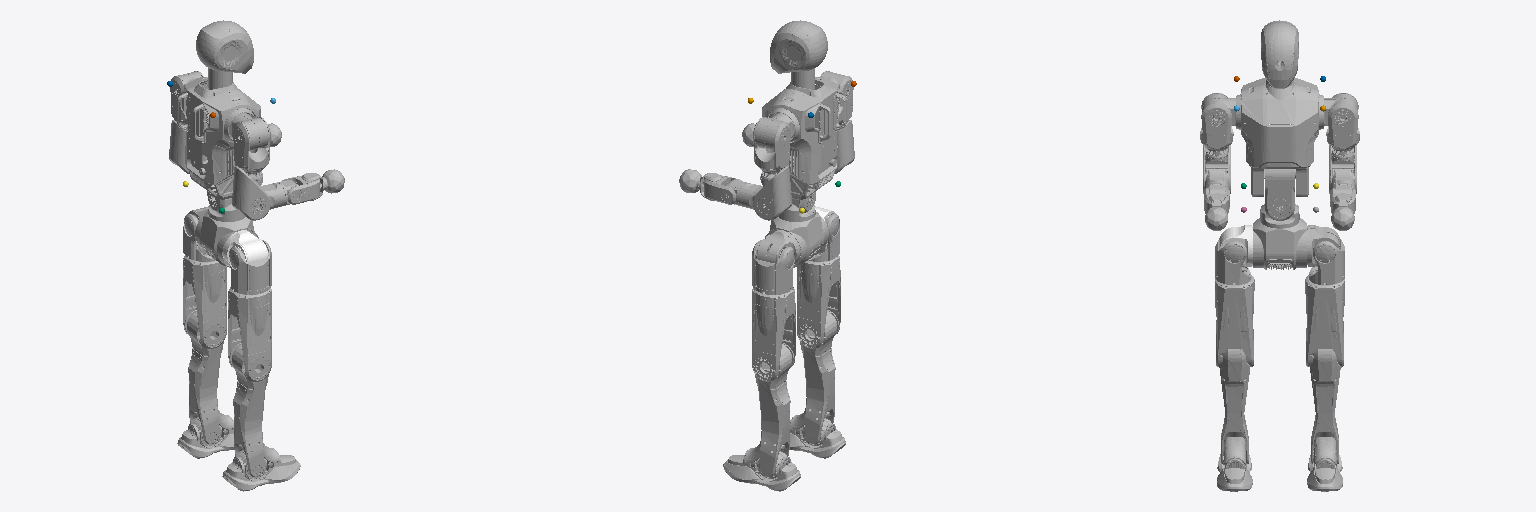
--- What the picture shows (computed from the rendered views, not written in the file) ---
The picture shows the robot from 3 angles, left to right: view 1: azimuth 30°, elevation 25°; view 2: azimuth 150°, elevation 25°; view 3: azimuth 270°, elevation 25°; orthographic projection.
Model DR2 with 38 links and 37 joints (29 revolute, 8 fixed), rooted at base_link, posed all joints at 0.
Visible links, largest first — view 1: body, right_hip_z_link, left_hip_z_link, left_knee_link, right_knee_link, right_ankle_x_link, right_hip_x_link, right_shoulder_z_link, base_link, left_ankle_x_link, right_shoulder_x_link, right_hip_y_link (+5 smaller); view 2: body, left_hip_z_link, right_hip_z_link, right_knee_link, left_knee_link, left_ankle_x_link, left_hip_x_link, base_link, left_shoulder_z_link, right_ankle_x_link, left_shoulder_x_link, left_hip_y_link (+6 smaller); view 3: body, left_hip_z_link, right_hip_z_link, base_link, right_knee_link, left_knee_link, left_ankle_x_link, right_ankle_x_link, left_hip_x_link, right_hip_x_link, left_shoulder_x_link, right_shoulder_x_link (+8 smaller).
Link boxes in pixels (left/top/right/bottom): body: left=177, top=20, right=260, bottom=199; right_hip_z_link: left=228, top=287, right=271, bottom=381; left_hip_z_link: left=183, top=255, right=226, bottom=348; left_knee_link: left=187, top=312, right=223, bottom=443; right_knee_link: left=232, top=345, right=268, bottom=476; right_ankle_x_link: left=222, top=444, right=300, bottom=491; right_hip_x_link: left=229, top=240, right=271, bottom=294; right_shoulder_z_link: left=232, top=166, right=270, bottom=220; base_link: left=195, top=211, right=258, bottom=267; left_ankle_x_link: left=177, top=411, right=233, bottom=458; right_shoulder_x_link: left=233, top=117, right=270, bottom=169; right_hip_y_link: left=223, top=230, right=268, bottom=263; body: left=762, top=20, right=846, bottom=199; left_hip_z_link: left=752, top=287, right=795, bottom=381; right_hip_z_link: left=797, top=255, right=840, bottom=348; right_knee_link: left=800, top=311, right=836, bottom=443; left_knee_link: left=755, top=344, right=791, bottom=476; left_ankle_x_link: left=723, top=444, right=800, bottom=491; left_hip_x_link: left=752, top=240, right=794, bottom=294; base_link: left=765, top=212, right=828, bottom=267; left_shoulder_z_link: left=753, top=166, right=791, bottom=220; right_ankle_x_link: left=790, top=411, right=845, bottom=458; left_shoulder_x_link: left=753, top=117, right=790, bottom=169; left_hip_y_link: left=755, top=230, right=800, bottom=263; body: left=1236, top=20, right=1323, bottom=196; left_hip_z_link: left=1305, top=275, right=1344, bottom=367; right_hip_z_link: left=1215, top=275, right=1254, bottom=366; base_link: left=1253, top=218, right=1306, bottom=269; right_knee_link: left=1219, top=349, right=1249, bottom=463; left_knee_link: left=1310, top=349, right=1340, bottom=463; left_ankle_x_link: left=1307, top=437, right=1342, bottom=491; right_ankle_x_link: left=1217, top=437, right=1252, bottom=491; left_hip_x_link: left=1308, top=232, right=1344, bottom=284; right_hip_x_link: left=1215, top=238, right=1250, bottom=284; left_shoulder_x_link: left=1326, top=93, right=1359, bottom=147; right_shoulder_x_link: left=1200, top=93, right=1233, bottom=147.
Bounding box of the posed robot: 0.5258 × 0.5733 × 1.77 m (x, y, z).
Meshes: 17 distinct files referenced, 30 mesh visuals loaded (17 binary STL).

robot.urdf — DR2:
<?xml version="1.0" encoding="utf-8"?>
<!-- This URDF was automatically created by SolidWorks to URDF Exporter! Originally created by Stephen Brawner ([email redacted]) 
     Commit Version: 1.6.0-4-g7f85cfe  Build Version: 1.6.7995.38578
     For more information, please see http://wiki.ros.org/sw_urdf_exporter -->
<robot name="DR2">
      <mujoco>
    <compiler meshdir="./meshes/" balanceinertia="false" discardvisual="false"/>
  </mujoco>
    <link name="base_link">
        <inertial>
            <origin xyz="0.00036 -0.00001 0.01581" rpy="0 0 0"/>
            <mass value="7.82975"/>
            <inertia ixx="0.04503" ixy="0.00004" ixz="0.00009" iyy="0.03128" iyz="0.00001" izz="0.03698"/>
        </inertial>
        <visual>
            <origin xyz="0 0 0" rpy="0 0 0"/>
            <geometry>
                <mesh filename="./meshes/base.stl"/>
            </geometry>
            <material name="">
                <color rgba="0.75294 0.75294 0.75294 1"/>
            </material>
        </visual>
        <collision>
            <origin xyz="0 0 0" rpy="1.57079632 0  0"/>
            <geometry>
                <cylinder length="0.13" radius="0.09"/>
            </geometry>
        </collision>
    </link>
    <link name="waist_z_link">
        <inertial>
            <origin xyz="0.00104 -0.00048 -0.01227" rpy="0 0 0"/>
            <mass value="1.84403"/>
            <inertia ixx="0.00320" ixy="-0.00001" ixz="0" iyy="0.00351" iyz="0.00001"
                     izz="0.00346"/>
        </inertial>
        <visual>
            <origin xyz="0 0 0" rpy="0 0 0"/>
            <geometry>
                <mesh filename="./meshes/waist_z.stl"/>
            </geometry>
            <material name="">
                <color rgba="0.75294 0.75294 0.75294 1"/>
            </material>
        </visual>
        <collision>
            <origin xyz="0 0 -0.07" rpy="0 0 0"/>
            <geometry>
                <cylinder length="0.06" radius="0.065"/>
            </geometry>
        </collision>
    </link>
    <joint name="waist_z_joint" type="revolute">
        <origin xyz="0 0 0.176" rpy="0 0 0"/>
        <parent link="base_link"/>
        <child link="waist_z_link"/>
        <axis xyz="0 0 1"/>
        <limit lower="-3.6652" upper="1.7453" effort="107" velocity="19.38"/>
    </joint>
    <link name="waist_x_link">
        <inertial>
            <origin xyz="-0.00258 0.00086 0.09228" rpy="0 0 0"/>
            <mass value="3.40004"/>
            <inertia ixx="0.01263" ixy="-0.00006" ixz="-0.0006" iyy="0.01307" iyz="-0.00004"
                     izz="0.00876"/>
        </inertial>
        <visual>
            <origin xyz="0 0 0" rpy="0 0 0"/>
            <geometry>
                <mesh filename="./meshes/waist_x.stl"/>
            </geometry>
            <material name="">
                <color rgba="0.75294 0.75294 0.75294 1"/>
            </material>
        </visual>
        <collision>
            <origin xyz="0 0 0.03" rpy="0 0 0"/>
            <geometry>
                <box size="0.12 0.09 0.14"/>
            </geometry>
        </collision>
    </link>
    <joint name="waist_x_joint" type="revolute">
        <origin xyz="0 0 0." rpy="0 0 0"/>
        <parent link="waist_z_link"/>
        <child link="waist_x_link"/>
        <axis xyz="1 0 0"/>
        <limit lower="-0.7854" upper="0.7854" effort="107" velocity="19.38"/>
    </joint>
    <link name="body">
        <inertial>
            <origin xyz="-0.03514 -0.00347 0.18093" rpy="0 0 0"/>
            <mass value="17.72258"/>
            <inertia ixx="0.27657" ixy="0.00425" ixz="-0.00829" iyy="0.27339" iyz="-0.00746" izz="0.15935"/>
        </inertial>
        <visual>
            <origin xyz="0 0 0." rpy="0 0 0"/>
            <geometry>
                <mesh filename="./meshes/body.stl"/>
            </geometry>
            <material name="">
                <color rgba="0.75294 0.75294 0.75294 1"/>
            </material>
        </visual>
        <collision>
            <origin xyz="-0.025 0 0.125" rpy="0 0 0"/>
            <geometry>
                <box size="0.2 0.2 0.375"/>
            </geometry>
        </collision>
        <collision>
            <origin xyz="-0.025 0 0.2" rpy="0 0 0"/>
            <geometry>
                <box size="0.23 0.25 0.25"/>
            </geometry>
        </collision>
        <collision>
            <origin xyz="-0.029 0 0.35" rpy="0 0 0"/>
            <geometry>
                <cylinder length="0.1" radius="0.05"/>
            </geometry>
        </collision>
        <collision>
            <origin xyz="-0.01 0 0.48" rpy="0 0 0"/>
            <geometry>
                <sphere radius="0.1"/>
            </geometry>
        </collision>
    </link>
    <joint name="waist_y_joint" type="revolute">
        <origin xyz="0 0 0.114" rpy="0 0 0"/>
        <parent link="waist_x_link"/>
        <child link="body"/>
        <axis xyz="0 1 0"/>
        <limit lower="-0.5236" upper="1.5708" effort="413" velocity="20"/>
    </joint>
    <link name="left_shoulder_y_link">
        <inertial>
            <origin xyz="-0.00283 -0.01423 -0.00089" rpy="0 0 0"/>
            <mass value="1.82215"/>
            <inertia ixx="0.00387" ixy="-0.00002" ixz="0.00003" iyy="0.00253" iyz="-0.00002"
                     izz="0.00402"/>
        </inertial>
        <visual>
            <origin xyz="0 0 0" rpy="-1.57079633 0 0"/>
            <geometry>
                <mesh filename="./meshes/shoulder_y.stl"/>
            </geometry>
            <material name="">
                <color rgba="0.75294 0.75294 0.75294 1"/>
            </material>
        </visual>
        <collision>
            <origin xyz="0 -0.075 0" rpy="1.57079632 0 0"/>
            <geometry>
                <cylinder length="0.1" radius="0.06"/>
            </geometry>
        </collision>
    </link>
    <joint name="left_shoulder_y_joint" type="revolute">
        <origin xyz="-0.03 0.22635 0.225" rpy="0 0 0"/>
        <parent link="body"/>
        <child link="left_shoulder_y_link"/>
        <axis xyz="0 1 0"/>
        <limit lower="-3.3161" upper="1.5708" effort="107" velocity="19.38"/>
    </joint>
    <link name="left_shoulder_x_link">
        <inertial>
            <origin xyz="0.00263 0 -0.05349" rpy="0 0 0"/>
            <mass value="0.97689"/>
            <inertia ixx="0.00258" ixy="0" ixz="0.00027" iyy="0.0031" iyz="0"
                     izz="0.00231"/>
        </inertial>
        <visual>
            <origin xyz="0 0 0" rpy="0 0 0"/>
            <geometry>
                <mesh filename="./meshes/shoulder_x.stl"/>
            </geometry>
            <material name="">
                <color rgba="0.75294 0.75294 0.75294 1"/>
            </material>
        </visual>
        <collision>
            <origin xyz="0 0 -0.09" rpy="0 0 0"/>
            <geometry>
                <cylinder length="0.1" radius="0.055"/>
            </geometry>
        </collision>
        <collision>
            <origin xyz="0 0 0" rpy="0 1.57079632 0"/>
            <geometry>
                <cylinder length="0.11" radius="0.055"/>
            </geometry>
        </collision>
    </link>
    <joint name="left_shoulder_x_joint" type="revolute">
        <origin xyz="0 0 0" rpy="0 0 0"/>
        <parent link="left_shoulder_y_link"/>
        <child link="left_shoulder_x_link"/>
        <axis xyz="1 0 0"/>
        <limit lower="-0.43633" upper="3.5779" effort="107" velocity="19.38"/>
    </joint>
    <link name="left_shoulder_z_link">
        <inertial>
            <origin xyz="-0.00978 -0.00126 0.09022" rpy="0 0 0"/>
            <mass value="1.9789"/>
            <inertia ixx="0.00920" ixy="-0.00002" ixz="0.00031" iyy="0.00904" iyz="0.00022"
                     izz="0.00369"/>
        </inertial>
        <visual>
            <origin xyz="0 0 0" rpy="0 0 0"/>
            <geometry>
                <mesh filename="./meshes/shoulder_z.stl"/>
            </geometry>
            <material name="">
                <color rgba="0.75294 0.75294 0.75294 1"/>
            </material>
        </visual>
        <collision>
            <origin xyz="0 0 0.05" rpy="0 0 0"/>
            <geometry>
                <cylinder length="0.15" radius="0.055"/>
            </geometry>
        </collision>
    </link>
    <joint name="left_shoulder_z_joint" type="revolute">
        <origin xyz="0 0 -0.265" rpy="0 0 0"/>
        <parent link="left_shoulder_x_link"/>
        <child link="left_shoulder_z_link"/>
        <axis xyz="0 0 1"/>
        <limit lower="-2.9671" upper="2.9671" effort="107" velocity="19.38"/>
    </joint>
    <link name="left_elbow_link">
        <inertial>
            <origin xyz="-0.00024 0.00041 -0.02569" rpy="0 0 0"/>
            <mass value="2.12943"/>
            <inertia ixx="0.00530" ixy="0.00003" ixz="0.00005" iyy="0.00528" iyz="0.00002"
                     izz="0.00289"/>
        </inertial>
        <visual>
            <origin xyz="0 0 0" rpy="0 0 0"/>
            <geometry>
                <mesh filename="./meshes/elbow.stl"/>
            </geometry>
            <material name="">
                <color rgba="0.75294 0.75294 0.75294 1"/>
            </material>
        </visual>
        <collision>
            <origin xyz="0 0 0" rpy="1.57079632 0 0"/>
            <geometry>
                <cylinder length="0.11" radius="0.055"/>
            </geometry>
        </collision>
        <collision>
            <origin xyz="0 0 -0.05" rpy="0 0 0"/>
            <geometry>
                <cylinder length="0.15" radius="0.045"/>
            </geometry>
        </collision>
    </link>
    <joint name="left_elbow_joint" type="revolute">
        <origin xyz="0 0 0" rpy="0 -1.57079633 0"/>
        <parent link="left_shoulder_z_link"/>
        <child link="left_elbow_link"/>
        <axis xyz="0 1 0"/>
        <limit lower="-0.767945" upper="1.74533" effort="107" velocity="19.38"/>
    </joint>
    <link name="left_wrist_z_link">
        <inertial>
            <origin xyz="0.00003 0.00439 0.00857" rpy="0 0 0"/>
            <mass value="0.79873"/>
            <inertia ixx="0.00085" ixy="0" ixz="0" iyy="0.0008" iyz="0"
                     izz="0.00072"/>
        </inertial>
        <visual>
            <origin xyz="0 0 0" rpy="0 0 0"/>
            <geometry>
                <mesh filename="./meshes/wrist_z.stl"/>
            </geometry>
            <material name="">
                <color rgba="0.75294 0.75294 0.75294 1"/>
            </material>
        </visual>
        <collision>
            <origin xyz="0 0 0" rpy="1.57079632 0 0"/>
            <geometry>
                <cylinder length="0.095" radius="0.04"/>
            </geometry>
        </collision>
    </link>
    <joint name="left_wrist_z_joint" type="revolute">
        <origin xyz="0 0 -0.16" rpy="0 0 0"/>
        <parent link="left_elbow_link"/>
        <child link="left_wrist_z_link"/>
        <axis xyz="0 0 1"/>
        <limit lower="-2.9671" upper="2.9671" effort="31" velocity="23.76"/>
    </joint>
    <link name="left_wrist_y_link">
        <inertial>
            <origin xyz="0.00237 -0.00160 -0.05688" rpy="0 0 0"/>
            <mass value="0.96977"/>
            <inertia ixx="0.00183" ixy="0" ixz="-0.00002" iyy="0.00154" iyz="-0.00011"
                     izz="0.00115"/>
        </inertial>
        <visual>
            <origin xyz="0 0 0" rpy="0 0 0"/>
            <geometry>
                <mesh filename="./meshes/wrist_y.stl"/>
            </geometry>
            <material name="">
                <color rgba="0.75294 0.75294 0.75294 1"/>
            </material>
        </visual>
        <collision>
            <origin xyz="0 0 -0.08" rpy=" 0 1.57079632 0"/>
            <geometry>
                <cylinder length="0.09" radius="0.04"/>
            </geometry>
        </collision>
    </link>
    <joint name="left_wrist_y_joint" type="revolute">
        <origin xyz="0 0 0" rpy="0 0 0"/>
        <parent link="left_wrist_z_link"/>
        <child link="left_wrist_y_link"/>
        <axis xyz="0 1 0"/>
        <limit lower="-1.5708" upper="1.5708" effort="31" velocity="23.76"/>
    </joint>
    <link name="left_wrist_x_link">
        <inertial>
            <origin xyz="-0.00177 -0.00028 -0.05143" rpy="0 0 0"/>
            <mass value="0.31088"/>
            <inertia ixx="0.0007" ixy="0" ixz="-0.00003" iyy="0.00089" iyz="0" izz="0.00039"/>
        </inertial>
        <visual>
            <origin xyz="0 0 0" rpy="0 0 0"/>
            <geometry>
                <mesh filename="./meshes/wrist_x.stl"/>
            </geometry>
            <material name="">
                <color rgba="0.75294 0.75294 0.75294 1"/>
            </material>
        </visual>
        <collision>
            <origin xyz="0 0 -0.0975" rpy=" 0 0 0"/>
            <geometry>
                <sphere radius="0.0425"/>
            </geometry>
        </collision>

    </link>
    <joint name="left_wrist_x_joint" type="revolute">
        <origin xyz="0 0 -0.08" rpy="0 0 0"/>
        <parent link="left_wrist_y_link"/>
        <child link="left_wrist_x_link"/>
        <axis xyz="1 0 0"/>
        <limit lower="-1.5708" upper="1.5708" effort="31" velocity="23.76"/>
    </joint>
    <link name="right_shoulder_y_link">
        <inertial>
            <origin xyz="-0.00283 0.01423 0.00089" rpy="0 0 0"/>
            <mass value="1.82215"/>
            <inertia ixx="0.00387" ixy="0.00002" ixz="0.00003" iyy="0.00253" iyz="-0.00002" izz="0.00402"/>
        </inertial>
        <visual>
            <origin xyz="0 0 0" rpy="1.57079633 0 0"/>
            <geometry>
                <mesh filename="./meshes/shoulder_y.stl"/>
            </geometry>
            <material name="">
                <color rgba="0.75294 0.75294 0.75294 1"/>
            </material>
        </visual>
        <collision>
            <origin xyz="0 0.075 0" rpy="1.57079632 0 0"/>
            <geometry>
                <cylinder length="0.1" radius="0.06"/>
            </geometry>
        </collision>
    </link>
    <joint name="right_shoulder_y_joint" type="revolute">
        <origin xyz="-0.03 -0.22635 0.225" rpy="0 0 0"/>
        <parent link="body"/>
        <child link="right_shoulder_y_link"/>
        <axis xyz="0 1 0"/>
        <limit lower="-3.3161" upper="1.5708" effort="107" velocity="19.38"/>
    </joint>
    <link name="right_shoulder_x_link">
        <inertial>
            <origin xyz="0.00263 0 -0.05349" rpy="0 0 0"/>
            <mass value="0.97689"/>
            <inertia ixx="0.00258" ixy="0" ixz="-0.00027" iyy="0.0031" iyz="0"
                     izz="0.00231"/>
        </inertial>
        <visual>
            <origin xyz="0 0 0" rpy="0 0 0"/>
            <geometry>
                <mesh filename="./meshes/shoulder_x.stl"/>
            </geometry>
            <material name="">
                <color rgba="0.75294 0.75294 0.75294 1"/>
            </material>
        </visual>
        <collision>
            <origin xyz="0 0 -0.09" rpy="0 0 0"/>
            <geometry>
                <cylinder length="0.1" radius="0.055"/>
            </geometry>
        </collision>
        <collision>
            <origin xyz="0 0 0" rpy="0 1.57079632 0"/>
            <geometry>
                <cylinder length="0.11" radius="0.055"/>
            </geometry>
        </collision>
    </link>
    <joint name="right_shoulder_x_joint" type="revolute">
        <origin xyz="0 0 0" rpy="0 0 0"/>
        <parent link="right_shoulder_y_link"/>
        <child link="right_shoulder_x_link"/>
        <axis xyz="1 0 0"/>
        <limit lower="-3.5779" upper="0.43633" effort="107" velocity="19.38"/>
    </joint>
    <link name="right_shoulder_z_link">
        <inertial>
            <origin xyz="-0.00978 -0.00126 0.09022" rpy="0 0 0"/>
            <mass value="1.9789"/>
            <inertia ixx="0.0092" ixy="-0.00002" ixz="0.00031"
                     iyy="0.00904" iyz="0.00022" izz="0.00369"/>
        </inertial>
        <visual>
            <origin xyz="0 0 0" rpy="0 0 0"/>
            <geometry>
                <mesh filename="./meshes/shoulder_z.stl"/>
            </geometry>
            <material name="">
                <color rgba="0.752941176470588 0.752941176470588 0.752941176470588 1"/>
            </material>
        </visual>
        <collision>
            <origin xyz="0 0 0.05" rpy="0 0 0"/>
            <geometry>
                <cylinder length="0.15" radius="0.055"/>
            </geometry>
        </collision>
    </link>
    <joint name="right_shoulder_z_joint" type="revolute">
        <origin xyz="0 0 -0.265" rpy="0 0 0"/>
        <parent link="right_shoulder_x_link"/>
        <child link="right_shoulder_z_link"/>
        <axis xyz="0 0 1"/>
        <limit lower="-2.9671" upper="2.9671" effort="107" velocity="19.38"/>
    </joint>
    <link name="right_elbow_link">
        <inertial>
            <origin xyz="-0.00024 0.00041 -0.02569" rpy="0 0 0"/>
            <mass value="2.12943"/>
            <inertia ixx="0.0053" ixy="0.00003" ixz="0.00005" iyy="0.00528" iyz="0"
                     izz="0.00289"/>
        </inertial>
        <visual>
            <origin xyz="0 0 0" rpy="0 0 0"/>
            <geometry>
                <mesh filename="./meshes/elbow.stl"/>
            </geometry>
            <material name="">
                <color rgba="0.75294 0.75294 0.75294 1"/>
            </material>
        </visual>
        <collision>
            <origin xyz="0 0 0" rpy="1.57079632 0 0"/>
            <geometry>
                <cylinder length="0.11" radius="0.055"/>
            </geometry>
        </collision>
        <collision>
            <origin xyz="0 0 -0.05" rpy="0 0 0"/>
            <geometry>
                <cylinder length="0.15" radius="0.045"/>
            </geometry>
        </collision>
    </link>
    <joint name="right_elbow_joint" type="revolute">
        <origin xyz="0 0 0" rpy="0 -1.57079632 0"/>
        <parent link="right_shoulder_z_link"/>
        <child link="right_elbow_link"/>
        <axis xyz="0 1 0"/>
        <limit lower="-0.767945" upper="1.74533" effort="107" velocity="19.38"/>
    </joint>
    <link name="right_wrist_z_link">
        <inertial>
            <origin xyz="0.00003 0.00439 0.00857" rpy="0 0 0"/>
            <mass value="0.79873"/>
            <inertia ixx="0.00085" ixy="0" ixz="0" iyy="0.00086" iyz="0.00003"
                     izz="0.00072"/>
        </inertial>
        <visual>
            <origin xyz="0 0 0" rpy="0 0 0"/>
            <geometry>
                <mesh filename="./meshes/wrist_z.stl"/>
            </geometry>
            <material name="">
                <color rgba="0.75294 0.75294 0.75294 1"/>
            </material>
        </visual>
        <collision>
            <origin xyz="0 0 0" rpy="1.57079632 0 0"/>
            <geometry>
                <cylinder length="0.095" radius="0.04"/>
            </geometry>
        </collision>
    </link>
    <joint name="right_wrist_z_joint" type="revolute">
        <origin xyz="0 0 -0.16" rpy="0 0 0"/>
        <parent link="right_elbow_link"/>
        <child link="right_wrist_z_link"/>
        <axis xyz="0 0 1"/>
        <limit lower="-2.9671" upper="2.9671" effort="31" velocity="23.76"/>
    </joint>
    <link name="right_wrist_y_link">
        <inertial>
            <origin xyz="0.00237 -0.00160 -0.05988" rpy="0 0 0"/>
            <mass value="0.96977"/>
            <inertia ixx="0.00183" ixy="0" ixz="-0.00002" iyy="0.00154" iyz="-0.00011"
                     izz="0.00115"/>
        </inertial>
        <visual>
            <origin xyz="0 0 0" rpy="0 0 0"/>
            <geometry>
                <mesh filename="./meshes/wrist_y.stl"/>
            </geometry>
            <material name="">
                <color rgba="0.75294 0.75294 0.75294 1"/>
            </material>
        </visual>
        <collision>
            <origin xyz="0 0 -0.08" rpy=" 0 1.57079632 0"/>
            <geometry>
                <cylinder length="0.09" radius="0.04"/>
            </geometry>
        </collision>
    </link>
    <joint name="right_wrist_y_joint" type="revolute">
        <origin xyz="0 0 0" rpy="0 0 0"/>
        <parent link="right_wrist_z_link"/>
        <child link="right_wrist_y_link"/>
        <axis xyz="0 1 0"/>
        <limit lower="-1.5708" upper="1.5708" effort="31" velocity="23.76"/>
    </joint>
    <link name="right_wrist_x_link">
        <inertial>
            <origin xyz="-0.00177 -0.00028 -0.05143" rpy="0 0 0"/>
            <mass value="0.31088"/>
            <inertia ixx="0.0007" ixy="0" ixz="-0.00003" iyy="0.00089" iyz="0" izz="0.00039"/>
        </inertial>
        <visual>
            <origin xyz="0 0 0" rpy="0 0 0"/>
            <geometry>
                <mesh filename="./meshes/wrist_x.stl"/>
            </geometry>
            <material name="">
                <color rgba="0.75294 0.75294 0.75294 1"/>
            </material>
        </visual>
        <collision>
            <origin xyz="0 0 -0.0975" rpy=" 0 0 0"/>
            <geometry>
                <sphere radius="0.0425"/>
            </geometry>
        </collision>
    </link>
    <joint name="right_wrist_x_joint" type="revolute">
        <origin xyz="0 0 -0.08" rpy="0 0 0"/>
        <parent link="right_wrist_y_link"/>
        <child link="right_wrist_x_link"/>
        <axis xyz="1 0 0"/>
        <limit lower="-1.5708" upper="1.5708" effort="31" velocity="23.76"/>
    </joint>
    <link name="left_hip_y_link">
        <inertial>
            <origin xyz="-0.00121 -0.01442 -0.0003" rpy="0 0 0"/>
            <mass value="1.89927"/>
            <inertia ixx="0.00366" ixy="-0.00006" ixz="0.00002" iyy="0.00312" iyz="0.00005"
                     izz="0.00341"/>
        </inertial>
        <visual>
            <origin xyz="0 0 0" rpy="3.1415926535 0 0"/>
            <geometry>
                <mesh filename="./meshes/hip_y.stl"/>
            </geometry>
            <material name="">
                <color rgba="0.75294 0.75294 0.75294 1"/>
            </material>
        </visual>
        <collision>
            <origin xyz="0 -0.05 0" rpy="1.57079632 0 0"/>
            <geometry>
                <cylinder length="0.08" radius="0.07"/>
            </geometry>
        </collision>
        <collision>
            <origin xyz="0 0 0" rpy="0 1.57079632 0"/>
            <geometry>
                <cylinder length="0.135" radius="0.06"/>
            </geometry>
        </collision>
    </link>
    <joint name="left_hip_y_joint" type="revolute">
        <origin xyz="0 0.162 0" rpy="0 0 0"/>
        <parent link="base_link"/>
        <child link="left_hip_y_link"/>
        <axis xyz="0 1 0"/>
        <limit lower="-2.7925" upper="1.5708" effort="413" velocity="20"/>
    </joint>
    <link name="left_hip_x_link">
        <inertial>
            <origin xyz="0.00153 0.00791 -0.07015" rpy="0 0 0"/>
            <mass value="1.75097"/>
            <inertia ixx="0.00721" ixy="-0.00002" ixz="0.00024" iyy="0.00954" iyz="-0.00003"
                     izz="0.00538"/>
        </inertial>
        <visual>
            <origin xyz="0 0 0" rpy="0 0 3.1415926535"/>
            <geometry>
                <mesh filename="./meshes/hip_x.stl"/>
            </geometry>
            <material name="">
                <color rgba="0.75294 0.75294 0.75294 1"/>
            </material>
        </visual>
        <collision>
            <origin xyz="0 0 -0.05" rpy="0 0 0"/>
            <geometry>
                <box size="0.14 0.08 0.15"/>
            </geometry>
        </collision>
    </link>
    <joint name="left_hip_x_joint" type="revolute">
        <origin xyz="0 0 0" rpy="0 0 0"/>
        <parent link="left_hip_y_link"/>
        <child link="left_hip_x_link"/>
        <axis xyz="1 0 0"/>
        <limit lower="-0.43633" upper="2.618" effort="107" velocity="19.38"/>
    </joint>
    <link name="left_hip_z_link">
        <inertial>
            <origin xyz="-0.00126 0.00032 -0.04122" rpy="0 0 0"/>
            <mass value="3.59517"/>
            <inertia ixx="0.04922" ixy="0.00002" ixz="-0.00012" iyy="0.04764" iyz="-0.00005"
                     izz="0.01268"/>
        </inertial>
        <visual>
            <origin xyz="0 0 0" rpy="0 0 0"/>
            <geometry>
                <mesh filename="./meshes/hip_z.stl"/>
            </geometry>
            <material name="">
                <color rgba="0.75294 0.75294 0.75294 1"/>
            </material>
        </visual>
        <collision>
            <origin xyz="0 0 -0.12" rpy="0 0 0"/>
            <geometry>
                <cylinder length="0.26" radius="0.06"/>
            </geometry>
        </collision>
    </link>
    <joint name="left_hip_z_joint" type="revolute">
        <origin xyz="0 0 -0.142" rpy="0 0 0"/>
        <parent link="left_hip_x_link"/>
        <child link="left_hip_z_link"/>
        <axis xyz="0 0 1"/>
        <limit lower="-0.5236" upper="3.6652" effort="107" velocity="19.38"/>
    </joint>
    <link name="left_knee_link">
        <inertial>
            <origin xyz="-0.00065 0.00024 -0.10231" rpy="0 0 0"/>
            <mass value="4.66882"/>
            <inertia ixx="0.09627" ixy="-0.00005" ixz="-0.00251" iyy="0.09562" iyz="0.00053" izz="0.00973"/>
        </inertial>
        <visual>
            <origin xyz="0 0 0" rpy="0 0 0"/>
            <geometry>
                <mesh filename="./meshes/knee.stl"/>
            </geometry>
            <material name="">
                <color rgba="0.75294 0.75294 0.75294 1"/>
            </material>
        </visual>
        <collision>
            <origin xyz="0 0 0" rpy="1.57079632 0 0"/>
            <geometry>
                <cylinder length="0.12" radius="0.07"/>
            </geometry>
        </collision>
        <collision>
            <origin xyz="0 0 -0.2" rpy="0 0 0"/>
            <geometry>
                <cylinder length="0.3" radius="0.055"/>
            </geometry>
        </collision>
    </link>
    <joint name="left_knee_joint" type="revolute">
        <origin xyz="0 0 -0.278" rpy="0 0 0"/>
        <parent link="left_hip_z_link"/>
        <child link="left_knee_link"/>
        <axis xyz="0 1 0"/>
        <limit lower="-0.17453" upper="2.5307" effort="413" velocity="20"/>
    </joint>
    <link name="left_ankle_y_link">
        <inertial>
            <origin xyz="0.00233 -0.00031 -0.00088" rpy="0 0 0"/>
            <mass value="1.4119"/>
            <inertia ixx="0.00172" ixy="0.00002" ixz="0" iyy="0.00183" iyz="0.00002"
                     izz="0.00191"/>
        </inertial>
        <visual>
            <origin xyz="0 0 0" rpy="0 0 0"/>
            <geometry>
                <mesh filename="./meshes/ankle_y.stl"/>
            </geometry>
            <material name="">
                <color rgba="0.75294 0.75294 0.75294 1"/>
            </material>
        </visual>
        <collision>
            <origin xyz="0 0 0" rpy="1.57079632 0 0"/>
            <geometry>
                <cylinder length="0.11" radius="0.045"/>
            </geometry>
        </collision>
    </link>
    <joint name="left_ankle_y_joint" type="revolute">
        <origin xyz="0 0 -0.41" rpy="0 0 0"/>
        <parent link="left_knee_link"/>
        <child link="left_ankle_y_link"/>
        <axis xyz="0 1 0"/>
        <limit lower="-1.0472" upper="0.7854" effort="107" velocity="19.38"/>
    </joint>
    <link name="left_ankle_x_link">
        <inertial>
            <origin xyz="0.05253 0.00008 -0.0295" rpy="0 0 0"/>
            <mass value="1.78979"/>
            <inertia ixx="0.00315" ixy="0.00001" ixz="0.00052" iyy="0.01056" iyz="0"
                     izz="0.01041"/>
        </inertial>
        <visual>
            <origin xyz="0 0 0" rpy="0 0 0"/>
            <geometry>
                <mesh filename="./meshes/ankle_x.stl"/>
            </geometry>
            <material name="">
                <color rgba="0.75294 0.75294 0.75294 1"/>
            </material>
        </visual>
        <collision>
            <origin xyz="0.045 0 -0.05" rpy="0 0 0"/>
            <geometry>
                 <box size="0.26 0.11 0.04"/>
            </geometry>
        </collision>
    </link>
    <joint name="left_ankle_x_joint" type="revolute">
        <origin xyz="0 0 0" rpy="0 0 0"/>
        <parent link="left_ankle_y_link"/>
        <child link="left_ankle_x_link"/>
        <axis xyz="1 0 0"/>
        <limit lower="-0.61087" upper="0.61087" effort="31" velocity="23.76"/>
    </joint>
    <link name="right_hip_y_link">
        <inertial>
            <origin xyz="0.00121 0.01442 -0.0003" rpy="0 0 0"/>
            <mass value="1.89927"/>
            <inertia ixx="0.00366" ixy="-0.00006" ixz="-0.00002" iyy="0.00312" iyz="-0.00005" izz="0.00341"/>
        </inertial>
        <visual>
            <origin xyz="0 0 0" rpy="0 0 0"/>
            <geometry>
                <mesh filename="./meshes/hip_y.stl"/>
            </geometry>
            <material name="">
                <color rgba="1 1 1 1"/>
            </material>
        </visual>
        <collision>
            <origin xyz="0 0.05 0" rpy="1.57079632 0 0"/>
            <geometry>
                <cylinder length="0.08" radius="0.07"/>
            </geometry>
        </collision>
        <collision>
            <origin xyz="0 0 0" rpy="0 1.57079632 0"/>
            <geometry>
                <cylinder length="0.135" radius="0.06"/>
            </geometry>
        </collision>
    </link>
    <joint name="right_hip_y_joint" type="revolute">
        <origin xyz="0 -0.162 0" rpy="0 0 0"/>
        <parent link="base_link"/>
        <child link="right_hip_y_link"/>
        <axis xyz="0 1 0"/>
        <limit lower="-2.7925" upper="1.5708" effort="413" velocity="20"/>
    </joint>
    <link name="right_hip_x_link">
        <inertial>
            <origin xyz="-0.00153 -0.00791 -0.07015" rpy="0 0 0"/>
            <mass value="1.75097"/>
            <inertia ixx="0.00721" ixy="-0.00002" ixz="-0.00024" iyy="0.00954" iyz="0.00003"
                     izz="0.00538"/>
        </inertial>
        <visual>
            <origin xyz="0 0 0" rpy="0 0 0"/>
            <geometry>
                <mesh filename="./meshes/hip_x.stl"/>
            </geometry>
            <material name="">
                <color rgba="0.75294 0.75294 0.75294 1"/>
            </material>
        </visual>
        <collision>
            <origin xyz="0 0 -0.05" rpy="0 0 0"/>
            <geometry>
                <box size="0.14 0.08 0.15"/>
            </geometry>
        </collision>
    </link>
    <joint name="right_hip_x_joint" type="revolute">
        <origin xyz="0 0 0" rpy="0 0 0"/>
        <parent link="right_hip_y_link"/>
        <child link="right_hip_x_link"/>
        <axis xyz="1 0 0"/>
        <limit lower="-2.618" upper="0.43633" effort="107" velocity="19.38"/>
    </joint>
    <link name="right_hip_z_link">
        <inertial>
            <origin xyz="-0.00126 0.00032 -0.04122" rpy="0 0 0"/>
            <mass value="3.59517"/>
            <inertia ixx="0.04922" ixy="0.00002" ixz="-0.00012" iyy="0.04764" iyz="0.00005"
                     izz="0.01268"/>
        </inertial>
        <visual>
            <origin xyz="0 0 0" rpy="0 0 0"/>
            <geometry>
                <mesh filename="./meshes/hip_z.stl"/>
            </geometry>
            <material name="">
                <color rgba="0.75294 0.75294 0.75294 1"/>
            </material>
        </visual>
        <collision>
            <origin xyz="0 0 -0.12" rpy="0 0 0"/>
            <geometry>
                <cylinder length="0.26" radius="0.06"/>
            </geometry>
        </collision>
    </link>
    <joint name="right_hip_z_joint" type="revolute">
        <origin xyz="0 0 -0.142" rpy="0 0 0"/>
        <parent link="right_hip_x_link"/>
        <child link="right_hip_z_link"/>
        <axis xyz="0 0 1"/>
        <limit lower="-3.6652" upper="0.5236" effort="107" velocity="19.38"/>
    </joint>
    <link name="right_knee_link">
        <inertial>
            <origin xyz="-0.00065 0.00024 -0.10231" rpy="0 0 0"/>
            <mass value="4.66882"/>
            <inertia ixx="0.09627" ixy="-0.00005" ixz="-0.00251" iyy="0.09562" iyz="0.00053" izz="0.00973"/>
        </inertial>
        <visual>
            <origin xyz="0 0 0" rpy="0 0 0"/>
            <geometry>
                <mesh filename="./meshes/knee.stl"/>
            </geometry>
            <material name="">
                <color rgba="0.75294 0.75294 0.75294 1"/>
            </material>
        </visual>
        <collision>
            <origin xyz="0 0 0" rpy="1.57079632 0 0"/>
            <geometry>
                <cylinder length="0.12" radius="0.07"/>
            </geometry>
        </collision>
        <collision>
            <origin xyz="0 0 -0.2" rpy="0 0 0"/>
            <geometry>
                <cylinder length="0.3" radius="0.055"/>
            </geometry>
        </collision>
    </link>
    <joint name="right_knee_joint" type="revolute">
        <origin xyz="0 0 -0.278" rpy="0 0 0"/>
        <parent link="right_hip_z_link"/>
        <child link="right_knee_link"/>
        <axis xyz="0 1 0"/>
        <limit lower="-0.17453" upper="2.5307" effort="413" velocity="20"/>
    </joint>
    <link name="right_ankle_y_link">
        <inertial>
            <origin xyz="0.00233 -0.00031 0.00088" rpy="0 0 0"/>
            <mass value="1.4119"/>
            <inertia ixx="0.00172" ixy="0.00002" ixz="0" iyy="0.00182" iyz="0.00002"
                     izz="0.00192"/>
        </inertial>
        <visual>
            <origin xyz="0 0 0" rpy="0 0 0"/>
            <geometry>
                <mesh filename="./meshes/ankle_y.stl"/>
            </geometry>
            <material name="">
                <color rgba="0.75294 0.75294 0.75294 1"/>
            </material>
        </visual>
        <collision>
            <origin xyz="0 0 0" rpy="1.57079632 0 0"/>
            <geometry>
                <cylinder length="0.11" radius="0.045"/>
            </geometry>
        </collision>
    </link>
    <joint name="right_ankle_y_joint" type="revolute">
        <origin xyz="0 0 -0.41" rpy="0 0 0"/>
        <parent link="right_knee_link"/>
        <child link="right_ankle_y_link"/>
        <axis xyz="0 1 0"/>
        <limit lower="-1.0472" upper="0.7854" effort="107" velocity="19.38"/>
    </joint>
    <link name="right_ankle_x_link">
        <inertial>
            <origin xyz="0.05253 0.00008 -0.0295" rpy="0 0 0"/>
            <mass value="1.78979"/>
            <inertia ixx="0.00315" ixy="0.00001" ixz="0.00052" iyy="0.01056" iyz="0"
                     izz="0.01041"/>
        </inertial>
        <visual>
            <origin xyz="0 0 0" rpy="0 0 0"/>
            <geometry>
                <mesh filename="./meshes/ankle_x.stl"/>
            </geometry>
            <material name="">
                <color rgba="0.75294 0.75294 0.75294 1"/>
            </material>
        </visual>
        <collision>
            <origin xyz="0.045 0 -0.05" rpy="0 0 0"/>
            <geometry>
                 <box size="0.26 0.11 0.04"/>
            </geometry>
        </collision>
    </link>
    <joint name="right_ankle_x_joint" type="revolute">
        <origin xyz="0 0 0" rpy="0 0 0"/>
        <parent link="right_ankle_y_link"/>
        <child link="right_ankle_x_link"/>
        <axis xyz="1 0 0"/>
        <limit lower="-0.61087" upper="0.61087" effort="31" velocity="23.76"/>
    </joint>

    <link name="mass_point_1">
        <visual>
            <origin rpy="0 0 0" xyz="0 0 0"/>
            <geometry>
                <sphere radius="0.011"/>
            </geometry>
            <material name="darkgray"/>
        </visual>
    </link>

    <joint name="mass_point_1" type="fixed">
        <parent link="body"/>
        <child link="mass_point_1"/>
        <origin xyz="0.1 -0.13 -0.1"/>
    </joint>

    <link name="mass_point_2">
        <visual>
            <origin rpy="0 0 0" xyz="0 0 0"/>
            <geometry>
                <sphere radius="0.011"/>
            </geometry>
            <material name="darkgray"/>
        </visual>
    </link>

    <joint name="mass_point_2" type="fixed">
        <parent link="body"/>
        <child link="mass_point_2"/>
        <origin xyz="0.1 0.13 -0.1"/>
    </joint>

    <link name="mass_point_3">
        <visual>
            <origin rpy="0 0 0" xyz="0 0 0"/>
            <geometry>
                <sphere radius="0.011"/>
            </geometry>
            <material name="darkgray"/>
        </visual>
    </link>

    <joint name="mass_point_3" type="fixed">
        <parent link="body"/>
        <child link="mass_point_3"/>
        <origin xyz="0.1 0.155 0.3"/>
    </joint>


    <link name="mass_point_4">
        <visual>
            <origin rpy="0 0 0" xyz="0 0 0"/>
            <geometry>
                <sphere radius="0.011"/>
            </geometry>
            <material name="darkgray"/>
        </visual>
    </link>

    <joint name="mass_point_4" type="fixed">
        <parent link="body"/>
        <child link="mass_point_4"/>
        <origin xyz="0.1 -0.155 0.3"/>
    </joint>


    <link name="mass_point_5">
        <visual>
            <origin rpy="0 0 0" xyz="0 0 0"/>
            <geometry>
                <sphere radius="0.011"/>
            </geometry>
            <material name="darkgray"/>
        </visual>
    </link>

    <joint name="mass_point_5" type="fixed">
        <parent link="body"/>
        <child link="mass_point_5"/>
        <origin xyz="-0.1 -0.13 -0.1"/>
    </joint>

    <link name="mass_point_6">
        <visual>
            <origin rpy="0 0 0" xyz="0 0 0"/>
            <geometry>
                <sphere radius="0.011"/>
            </geometry>
            <material name="darkgray"/>
        </visual>
    </link>

    <joint name="mass_point_6" type="fixed">
        <parent link="body"/>
        <child link="mass_point_6"/>
        <origin xyz="-0.1 0.13 -0.1"/>
    </joint>

    <link name="mass_point_7">
        <visual>
            <origin rpy="0 0 0" xyz="0 0 0"/>
            <geometry>
                <sphere radius="0.011"/>
            </geometry>
            <material name="darkgray"/>
        </visual>
    </link>

    <joint name="mass_point_7" type="fixed">
        <parent link="body"/>
        <child link="mass_point_7"/>
        <origin xyz="-0.15 0.155 0.3"/>
    </joint>


    <link name="mass_point_8">
        <visual>
            <origin rpy="0 0 0" xyz="0 0 0"/>
            <geometry>
                <sphere radius="0.011"/>
            </geometry>
            <material name="darkgray"/>
        </visual>
    </link>

    <joint name="mass_point_8" type="fixed">
        <parent link="body"/>
        <child link="mass_point_8"/>
        <origin xyz="-0.15 -0.155 0.3"/>
    </joint>

</robot>
